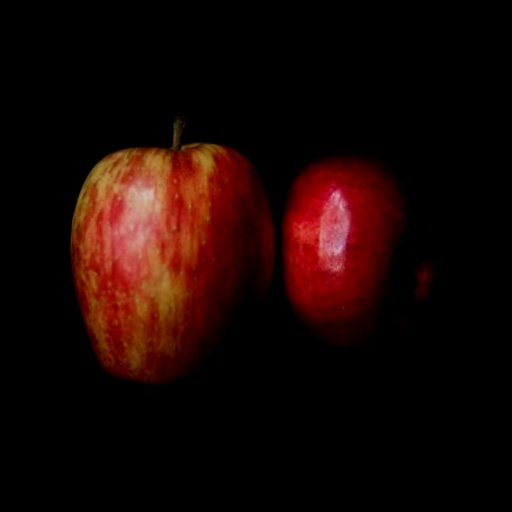fruit: (70, 117, 275, 388), (279, 137, 443, 362)
